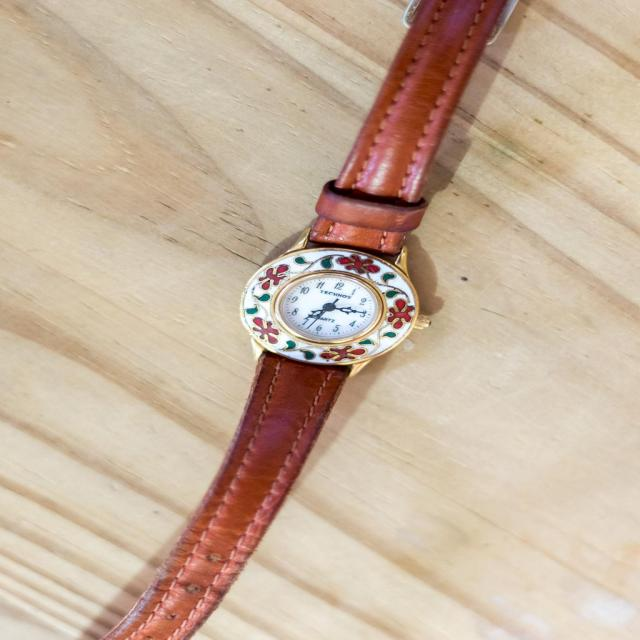Wrist watch: (90, 4, 526, 638)
